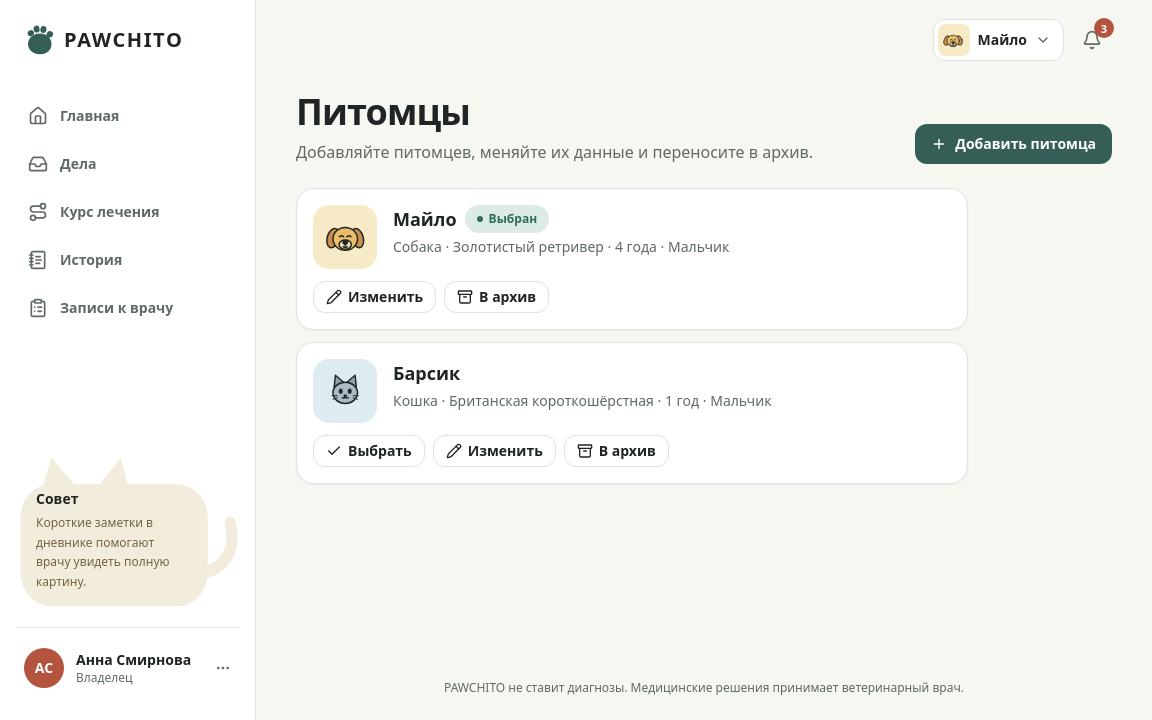
Scenario: PetsPage: список › «Выбрать» меняет питомца и в переключателе
Click the button named "Выбрать, Барсик".
click(369, 451)  # box [313,435,425,467]
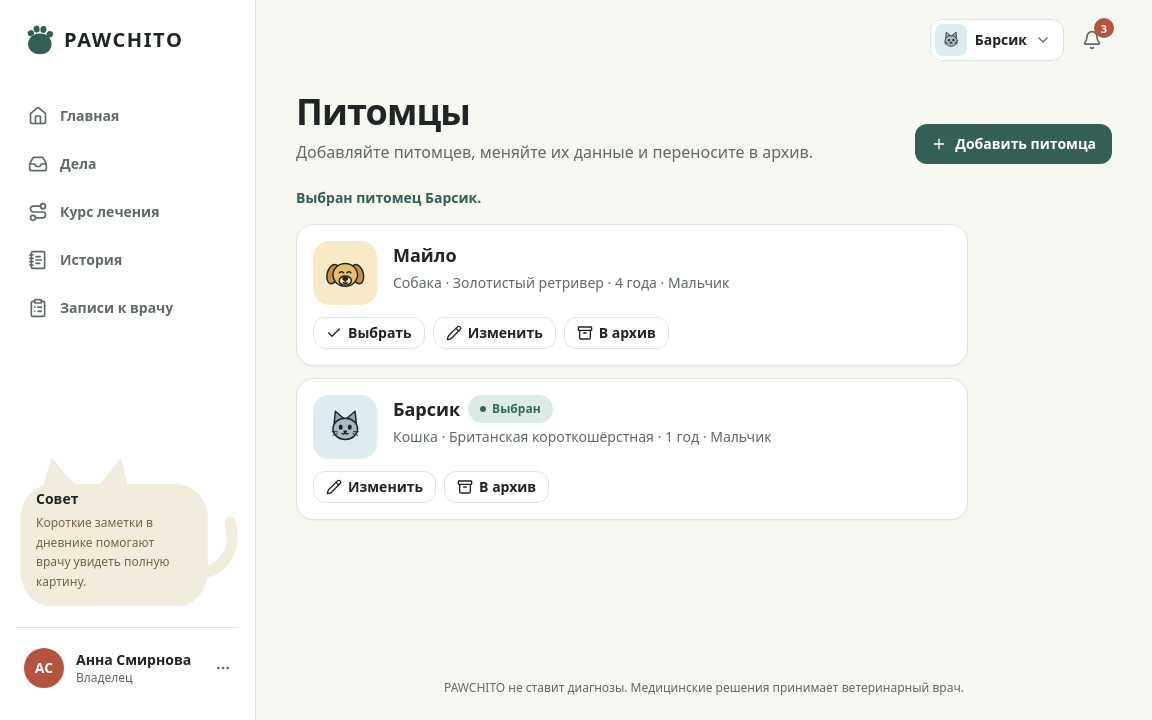
Expected: the text "Выбран" is shown, [468,395,553,423]
Expected: the text "Выбран питомец Барсик." is shown, [296,188,481,207]
